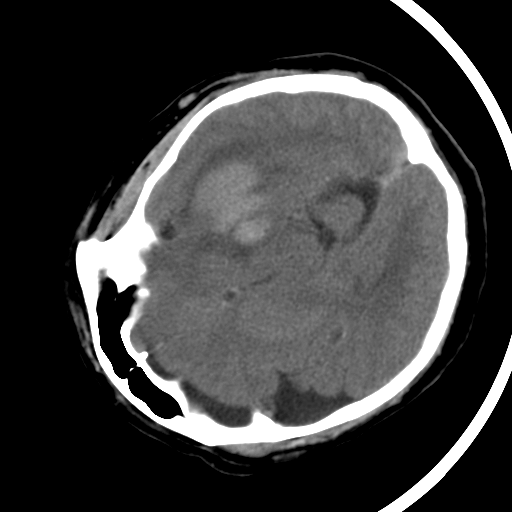a: (167, 125, 293, 277)
